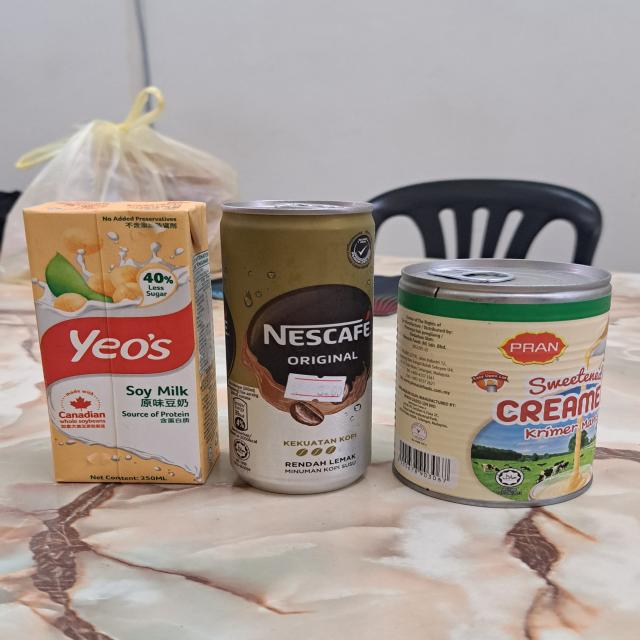can: (396, 260, 613, 506), (224, 199, 376, 493)
drink carton: (23, 197, 223, 486)
pop tab: (427, 264, 518, 288), (272, 197, 338, 214)
